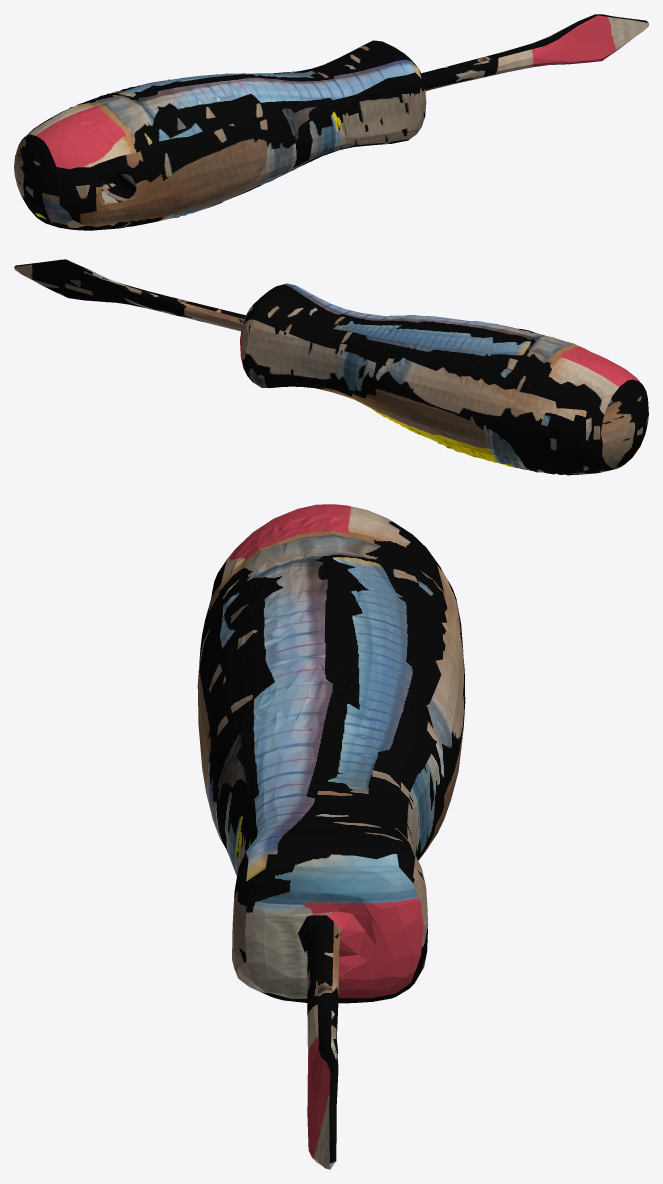
Rendered from red_screwdriver.obj.
3 views of the same model, one above another, from view 1: azimuth 30°, elevation 25°; view 2: azimuth 150°, elevation 25°; view 3: azimuth 270°, elevation 25° (orthographic). The views are drawn at different scales.
Visible parts, largest first — view 1: geometry_0; view 2: geometry_0; view 3: geometry_0.
Boxes of the visible parts, x1,y1,x2,y2 form: geometry_0: (14,14,648,230); geometry_0: (14,259,648,475); geometry_0: (197,504,465,1169).
Size of the model in its own units: 0.1896 by 0.0353 by 0.0353.
